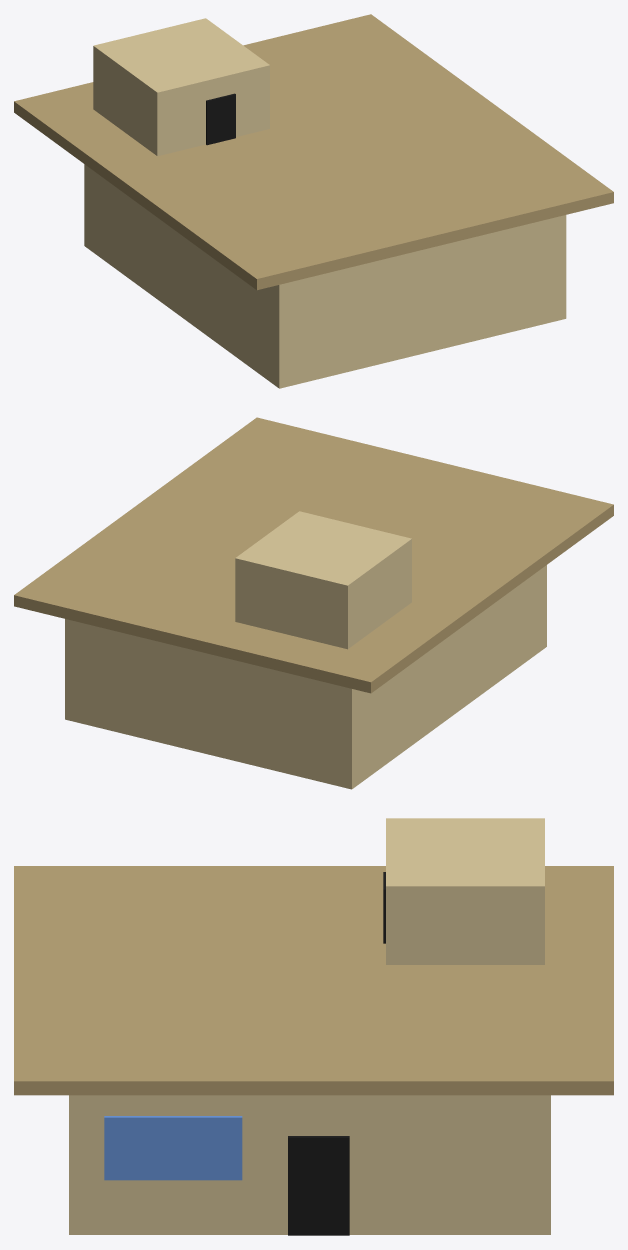
The model's file is House_2_Crema.fbx.
The picture shows the model from 3 angles, top to bottom: view 1: azimuth 30°, elevation 25°; view 2: azimuth 150°, elevation 25°; view 3: azimuth 270°, elevation 25°; orthographic projection. The views are drawn at different scales.
Parts seen in each view (by area): view 1: Cube.019, Cube.017, Cube.018, Door_1.009; view 2: Cube.019, Cube.017, Cube.018; view 3: Cube.019, Cube.017, Cube.018, Window_1.015, Door_1.008.
Part boxes in pixels (x1,y1,x2,y2): Cube.019: (14, 14, 613, 290); Cube.017: (84, 164, 566, 388); Cube.018: (93, 18, 269, 156); Door_1.009: (206, 93, 235, 145); Cube.019: (14, 417, 613, 693); Cube.017: (65, 565, 546, 789); Cube.018: (235, 511, 411, 649); Cube.019: (14, 866, 613, 1095); Cube.017: (69, 1095, 550, 1234); Cube.018: (386, 818, 544, 964); Window_1.015: (104, 1116, 242, 1180); Door_1.008: (288, 1136, 349, 1235).
Size of the model in its own units: 2966 by 1591 by 3494.
